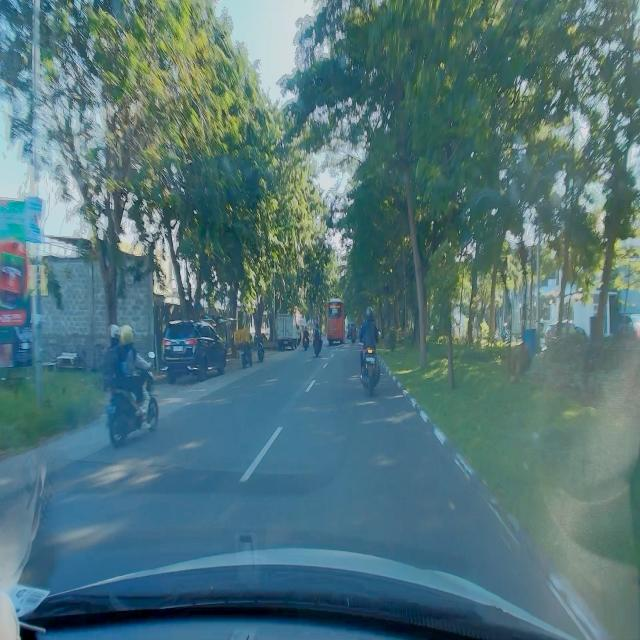bus: (326, 298, 345, 347)
car: (161, 317, 227, 386)
truck: (276, 311, 298, 353)
